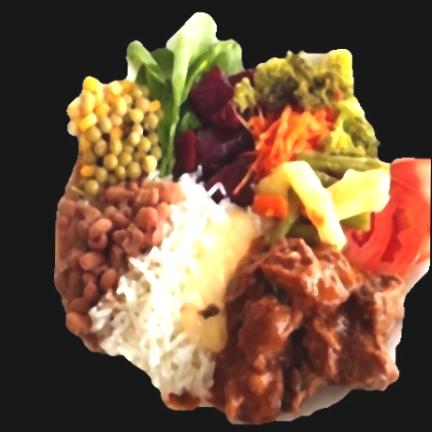beans: (56, 179, 183, 350)
broccoli: (235, 50, 380, 156)
green_beans: (297, 151, 389, 183)
green_vegetables: (68, 76, 163, 199)
meat: (212, 238, 404, 423)
potato: (181, 209, 258, 352)
rice: (90, 176, 230, 398)
salad: (128, 12, 244, 175)
tomato: (347, 160, 431, 272)
